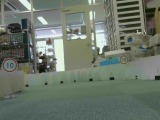speed_10: (2, 58, 18, 72), (119, 55, 128, 65)
